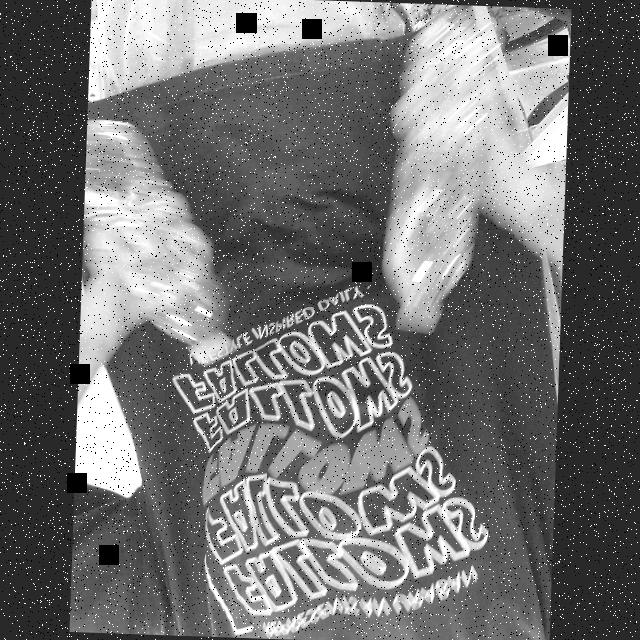plastic_bottle: (382, 12, 502, 336), (79, 120, 232, 366)
plastic_bottle_cap: (188, 324, 234, 366), (394, 302, 441, 335)
